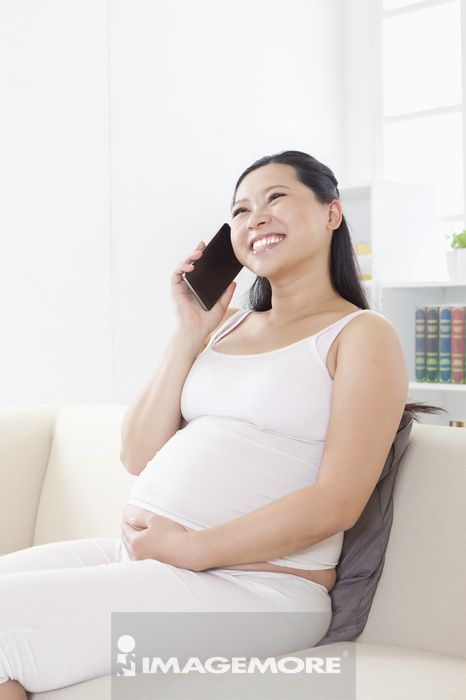phone: (185, 223, 243, 312)
talk: (164, 181, 300, 355)
